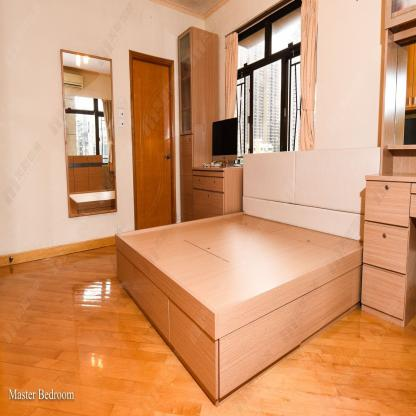Bed Frame: (115, 211, 363, 406)
Door: (129, 49, 176, 231)
